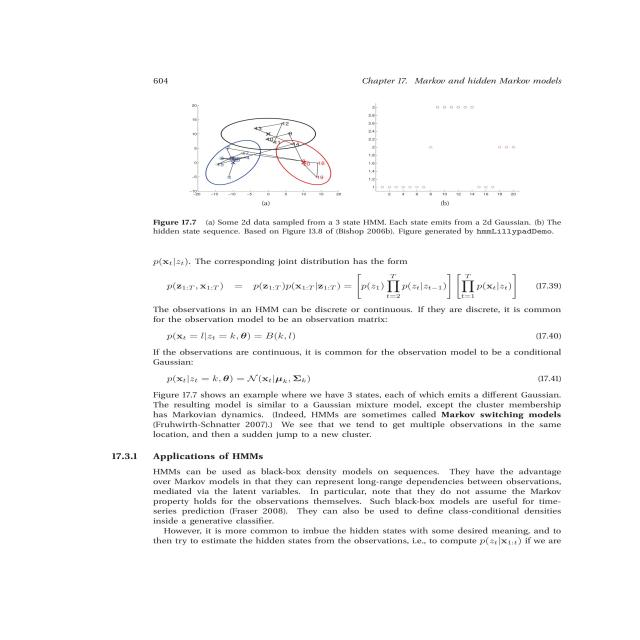diagram: (89, 96, 593, 243)
